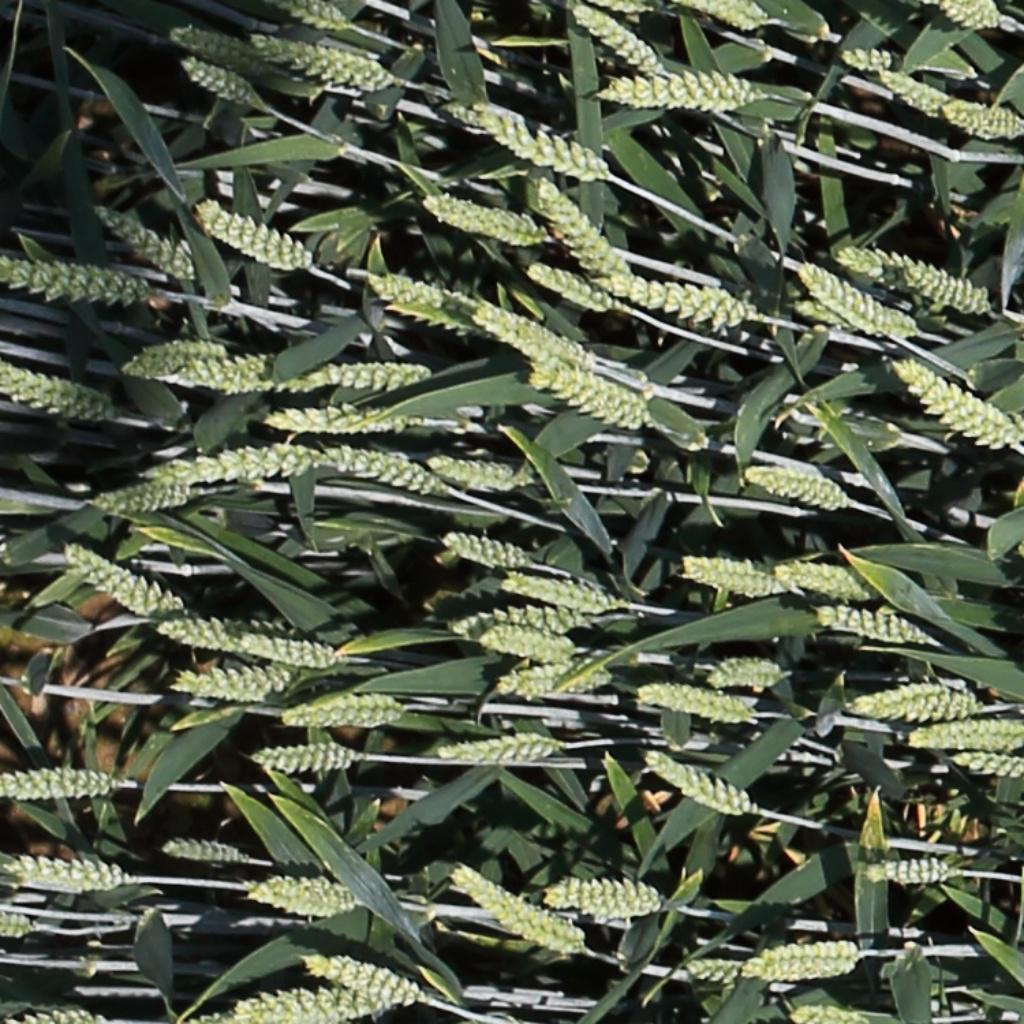0-0: (447, 94, 611, 184), (890, 357, 1022, 454), (450, 868, 589, 955), (834, 243, 998, 316), (531, 173, 626, 278), (795, 261, 919, 338), (251, 35, 395, 99), (193, 199, 317, 272), (0, 254, 149, 311), (146, 442, 319, 489), (62, 546, 174, 617), (365, 267, 479, 335), (92, 202, 192, 278), (533, 366, 653, 429), (594, 72, 762, 116), (641, 752, 752, 817), (604, 275, 753, 323), (476, 305, 587, 367), (417, 191, 546, 243), (570, 2, 660, 76), (205, 990, 392, 1024), (321, 441, 436, 496), (0, 361, 110, 417), (242, 875, 367, 920), (543, 876, 665, 922), (301, 955, 417, 1003), (846, 682, 980, 722), (742, 465, 846, 514), (166, 25, 266, 75), (745, 940, 858, 984), (169, 663, 292, 703), (4, 857, 132, 895), (277, 692, 405, 730), (637, 683, 758, 723), (499, 572, 622, 611), (176, 54, 261, 110), (525, 262, 618, 312), (815, 606, 928, 647), (120, 342, 228, 383), (437, 731, 563, 766), (220, 356, 326, 395), (234, 637, 344, 674), (910, 718, 1024, 753), (261, 407, 408, 434), (492, 662, 612, 695), (938, 97, 1024, 143), (450, 602, 590, 630), (249, 735, 352, 773), (327, 356, 432, 393), (877, 68, 950, 119), (0, 769, 116, 801), (478, 630, 583, 665), (678, 559, 789, 592), (424, 456, 521, 493), (674, 0, 770, 37), (155, 620, 271, 650), (438, 533, 526, 570), (91, 487, 197, 513), (693, 653, 783, 683), (145, 399, 247, 425), (778, 565, 865, 595), (863, 858, 954, 884), (163, 842, 250, 864), (283, 0, 348, 28), (950, 755, 1024, 779), (686, 957, 751, 984), (943, 0, 1005, 26), (790, 1004, 864, 1024), (795, 297, 854, 321), (838, 49, 906, 69), (19, 1010, 103, 1024), (1, 917, 32, 940)
